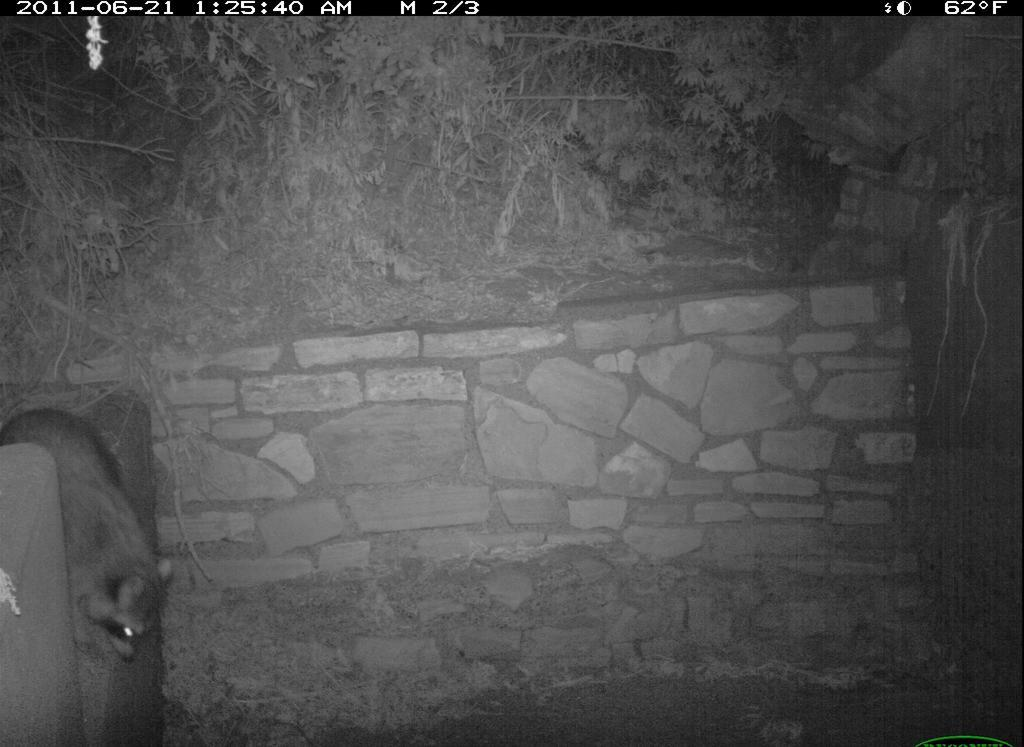raccoon: (3, 392, 181, 680)
